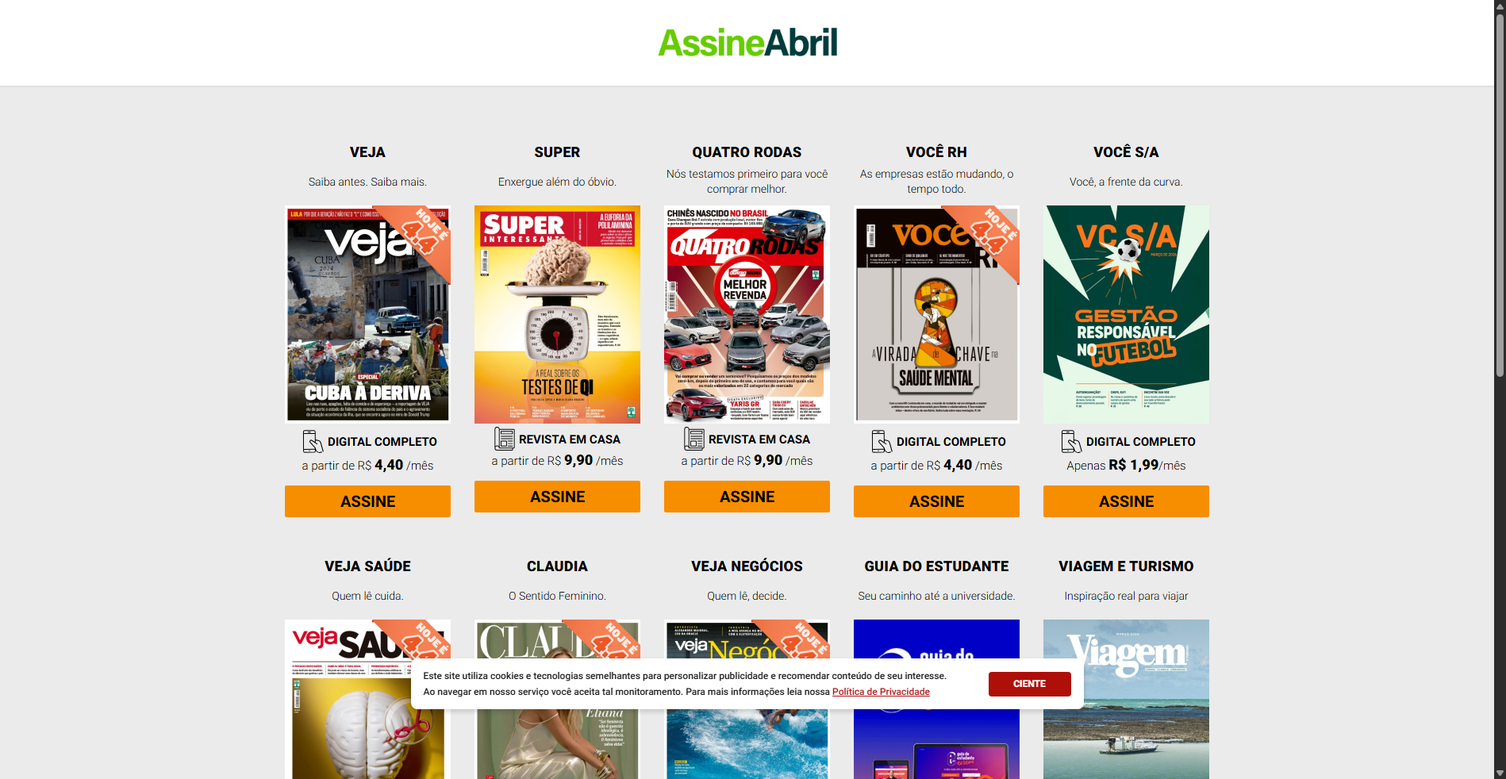button: (285, 413, 451, 426), (474, 413, 640, 426), (664, 413, 830, 426), (854, 413, 1020, 426), (1043, 413, 1209, 426), (988, 672, 1071, 696), (832, 686, 930, 697)
link: (285, 485, 451, 517), (854, 485, 1020, 517), (1043, 485, 1209, 517), (474, 481, 640, 512), (664, 481, 830, 512)
toggle: (285, 205, 451, 424), (474, 205, 640, 424), (664, 205, 830, 424), (854, 205, 1020, 424), (1043, 205, 1209, 424), (285, 620, 451, 779), (474, 620, 640, 779), (664, 620, 830, 779), (854, 620, 1020, 779), (1043, 620, 1209, 779), (657, 28, 837, 56), (298, 427, 324, 457), (867, 427, 893, 457), (1057, 427, 1082, 457), (494, 427, 515, 451), (684, 427, 705, 451)
